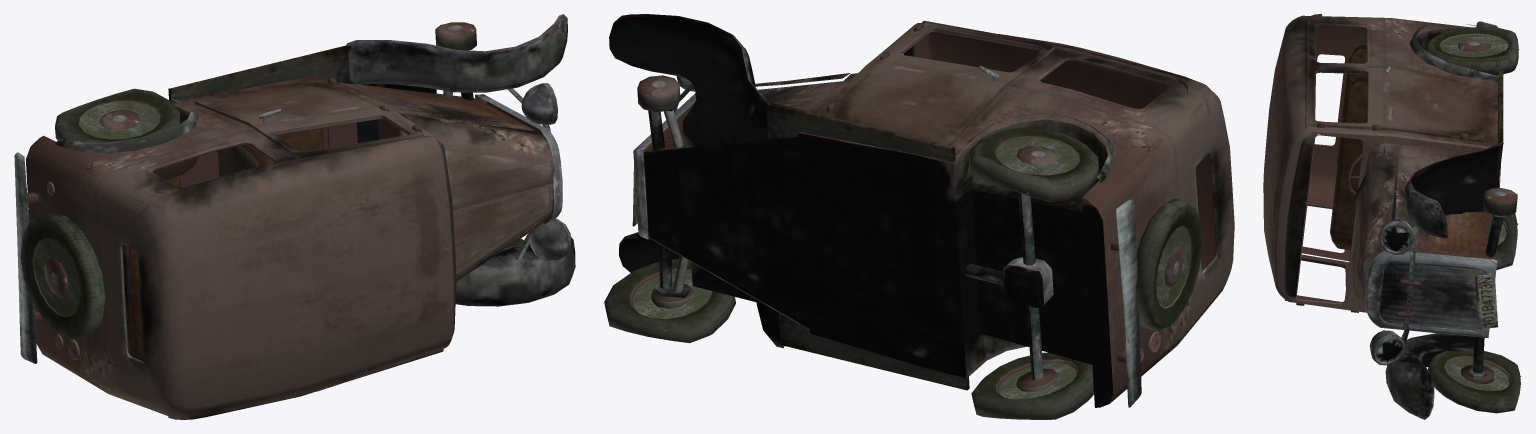
Rendered from vehicle_civilian_car_red_d.glb.
3 views of the same model, side by side, from view 1: azimuth 30°, elevation 25°; view 2: azimuth 150°, elevation 25°; view 3: azimuth 270°, elevation 25° (orthographic). The views are drawn at different scales.
Size of the model in its own units: 136 by 64.96 by 67.07.
Materials: 1 (1 with a texture image).
